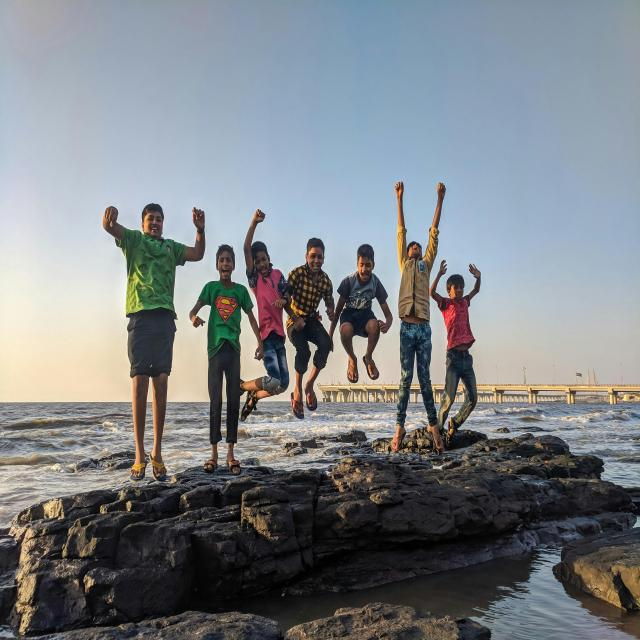sit: (330, 241, 391, 390), (287, 239, 334, 408)
stand: (119, 190, 180, 494), (391, 171, 440, 456), (204, 235, 247, 481), (434, 256, 480, 458), (256, 235, 288, 426)
